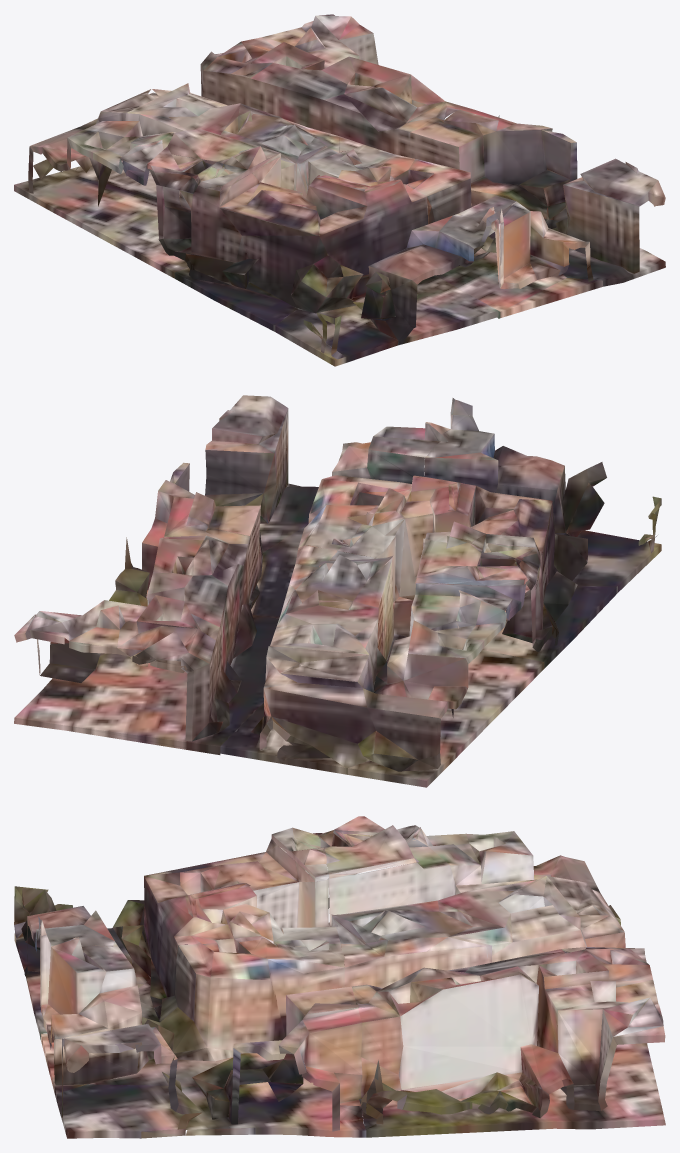
The picture shows the model from 3 angles, top to bottom: view 1: azimuth 30°, elevation 25°; view 2: azimuth 150°, elevation 25°; view 3: azimuth 270°, elevation 25°; orthographic projection. The views are drawn at different scales.
Visible parts, largest first — view 1: Mesh_0; view 2: Mesh_0; view 3: Mesh_0.
Part boxes in pixels (x1,y1,x2,y2): Mesh_0: (14,14,665,366); Mesh_0: (14,395,661,787); Mesh_0: (14,816,665,1138).
Size of the model in its own units: 133 by 40.12 by 165.
1 material, 1 textured.
